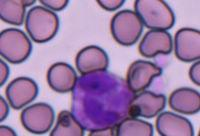E: (70, 70, 134, 132)
